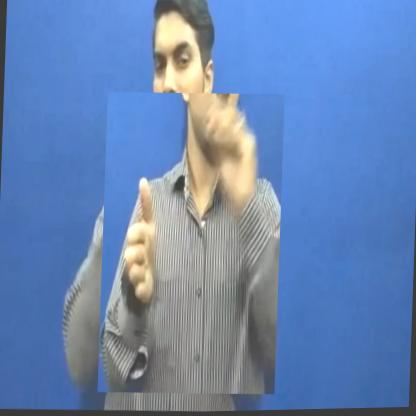Expensive: (97, 90, 285, 399)
